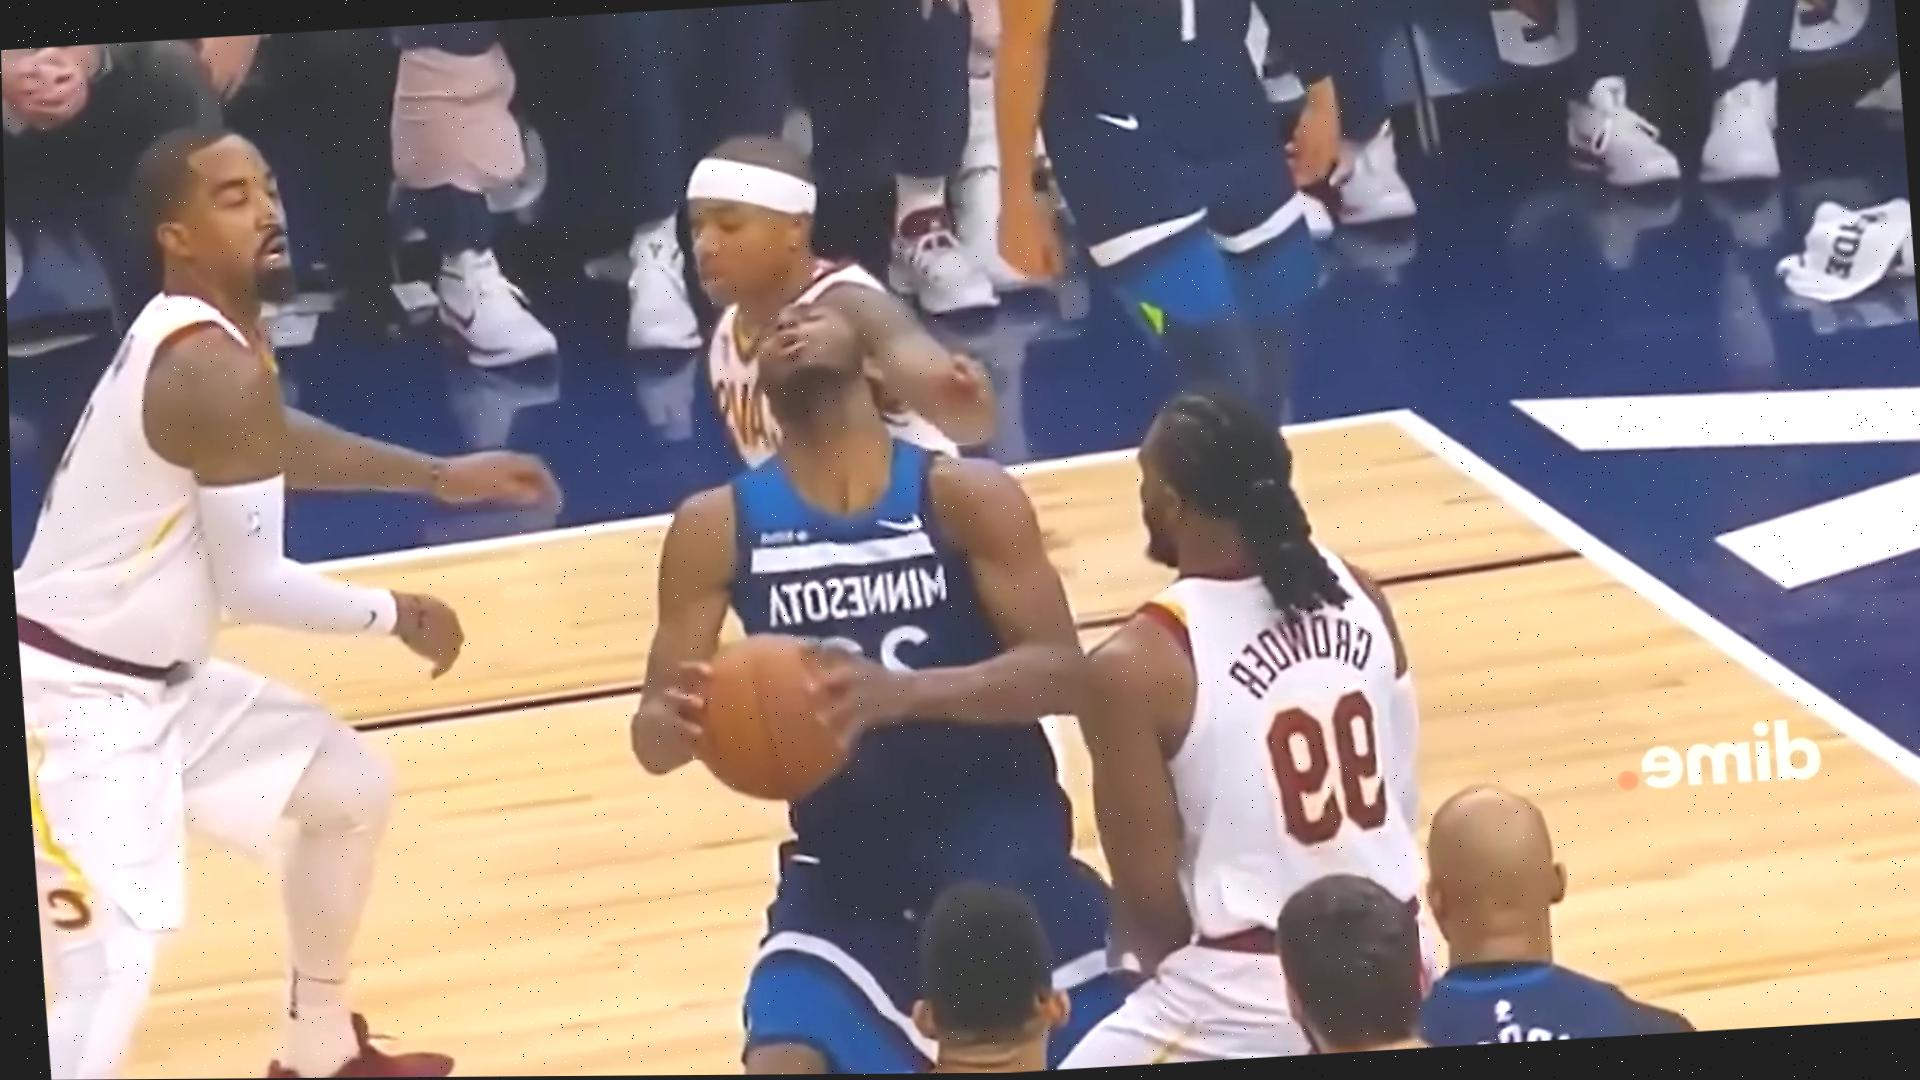no_foul: (637, 105, 1112, 1075)
